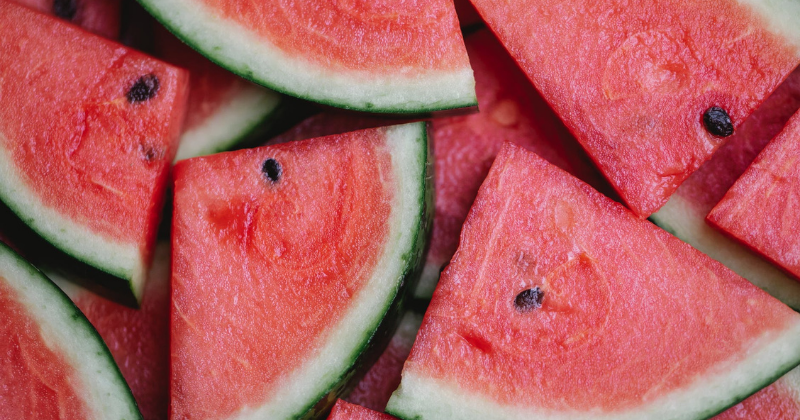Semangka: (433, 125, 766, 420), (131, 122, 427, 417), (496, 9, 782, 188), (1, 42, 186, 312)
